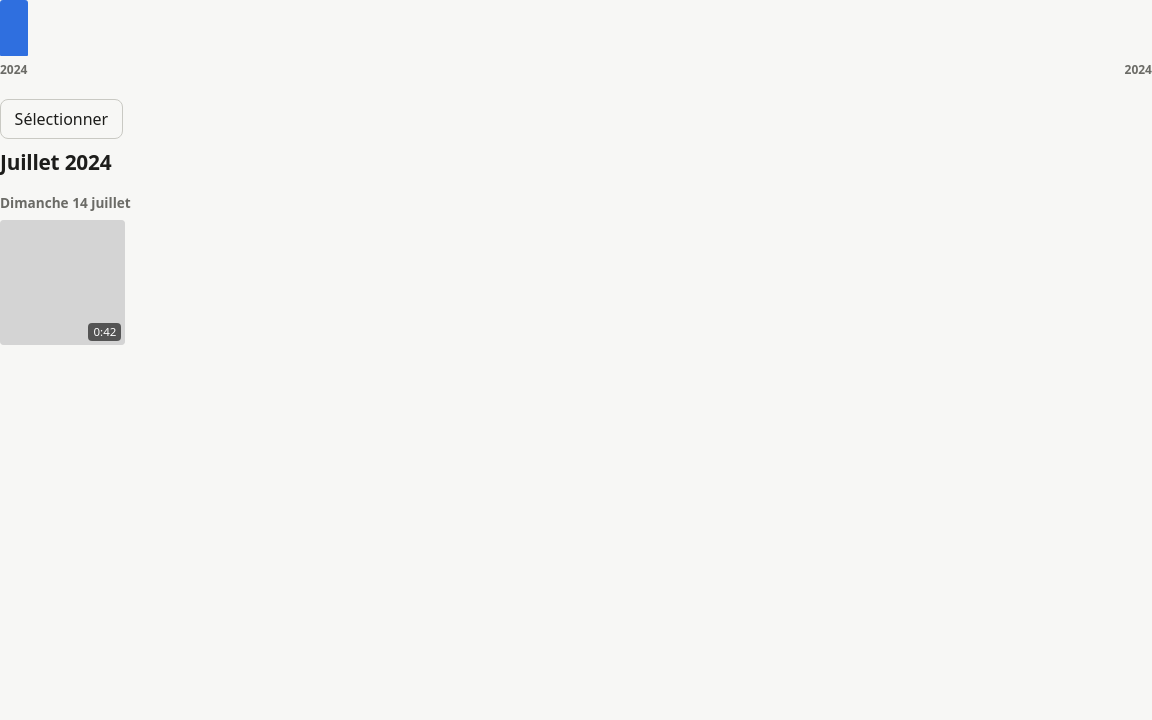
it: Photos › shows a video with its length on the tile and plays it in the viewer
Check: the text "0:42" is shown, box [88, 323, 121, 341]
What coordinates should you click on to do the following:
click the button named "IMG_0002.MOV"
I would click on:
 (63, 282)
Its box is [0, 220, 125, 345].
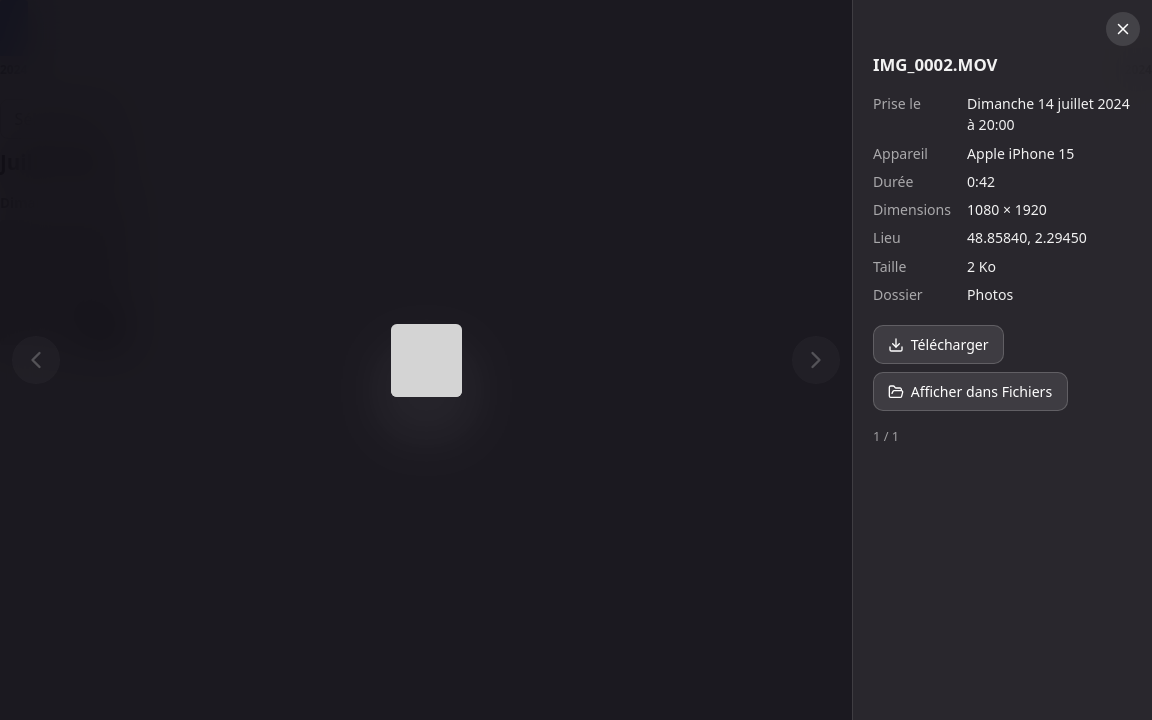
Check: the text "Durée" is shown, box [873, 172, 913, 191]
Check: the text "0:42" is shown, box [967, 172, 995, 191]
